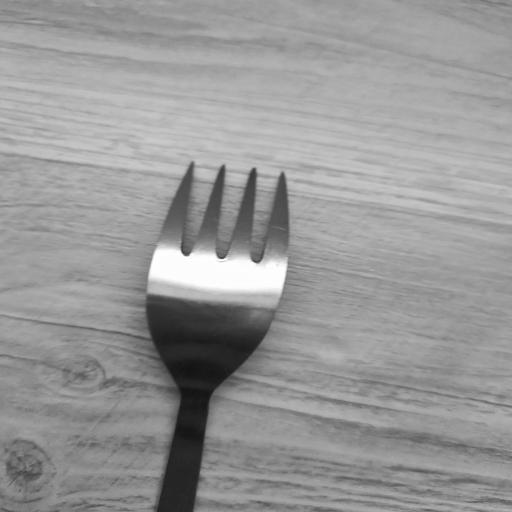fork: (138, 161, 294, 512)
